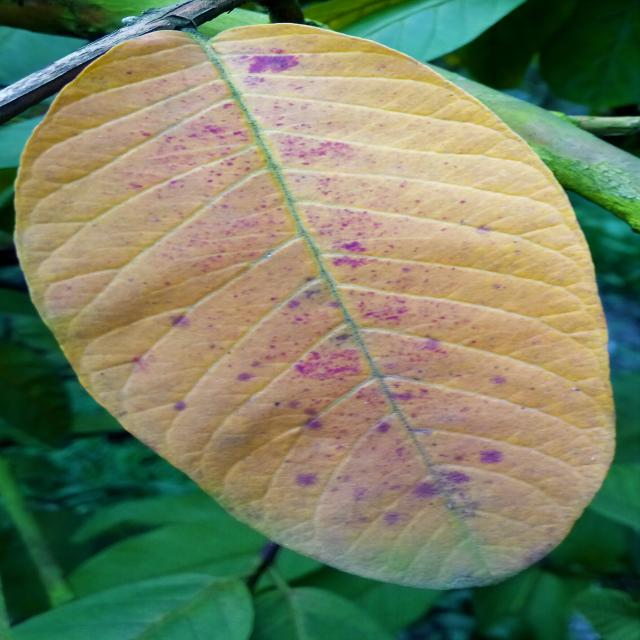Red Rust: (16, 24, 614, 589)
